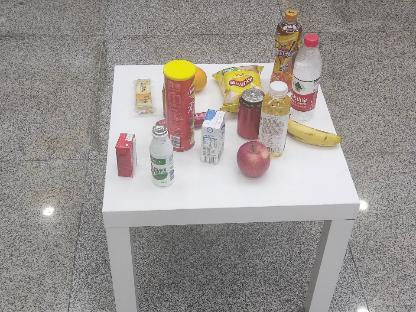Can: (238, 86, 262, 142)
Others: (162, 58, 198, 156), (200, 102, 228, 168), (113, 129, 142, 181)
Plastic Bottle: (290, 32, 322, 120)
